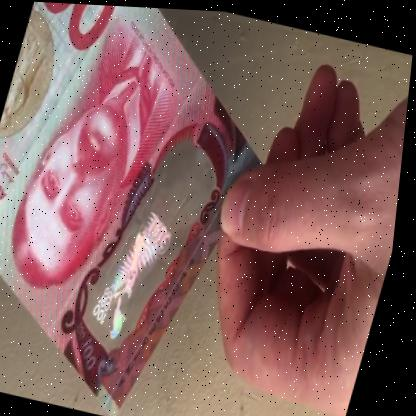100F: (89, 144, 219, 354)
